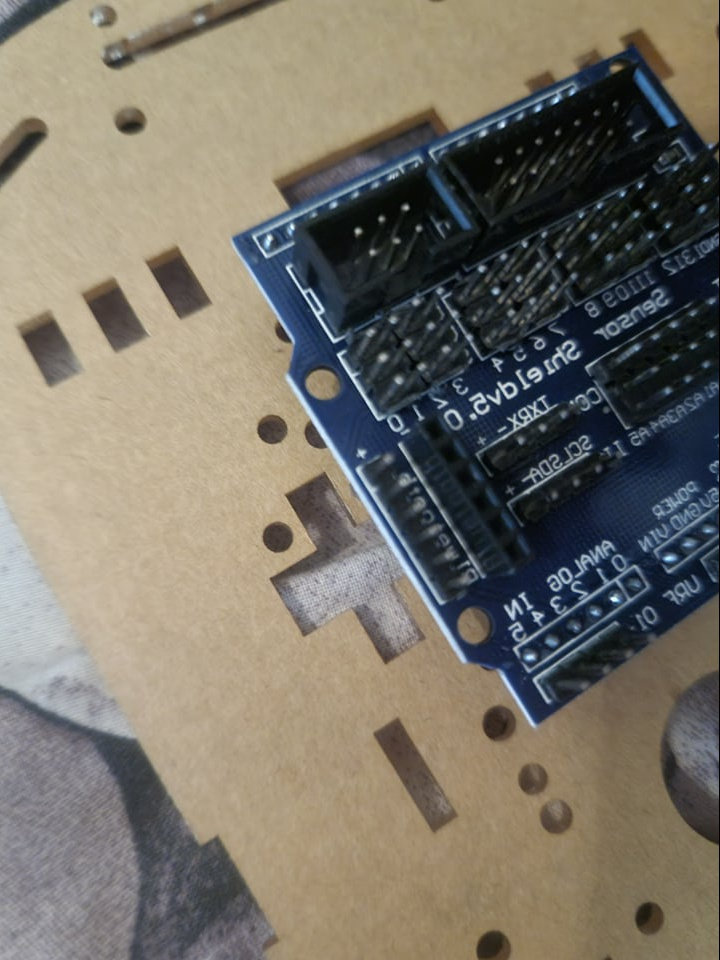5V EXPANSION: (232, 41, 720, 729)
